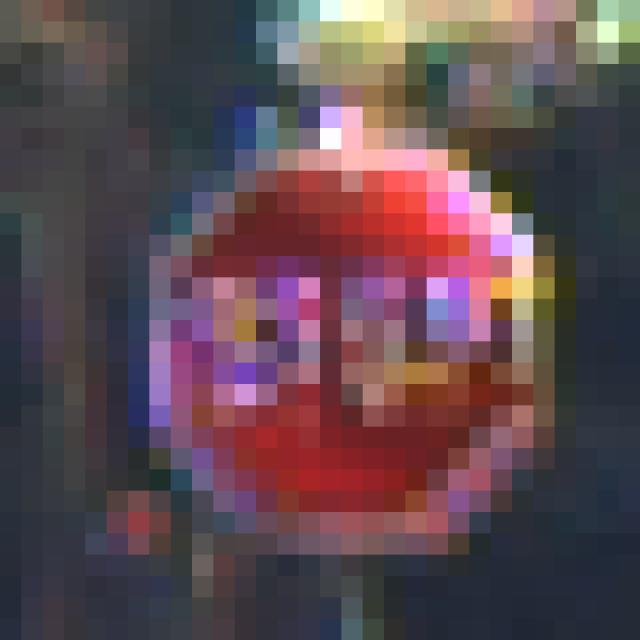STOP: (129, 129, 534, 534)
